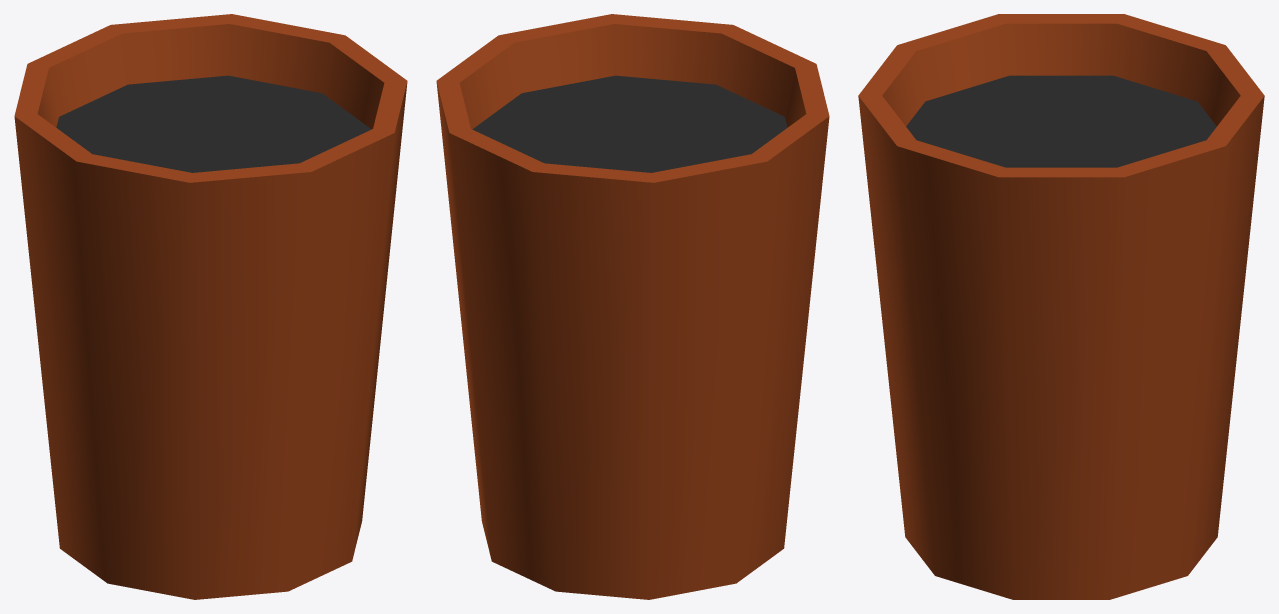
Rendered from Drink.fbx.
3 renders of one model, left to right at view 1: azimuth 30°, elevation 25°; view 2: azimuth 150°, elevation 25°; view 3: azimuth 270°, elevation 25°, orthographic.
Parts seen in each view (by area): view 1: Circle.004; view 2: Circle.004; view 3: Circle.004.
Boxes of the visible parts, bbox=[...] form: Circle.004: bbox=[14, 14, 407, 599]; Circle.004: bbox=[436, 14, 829, 599]; Circle.004: bbox=[858, 14, 1264, 599].
Size of the model in its own units: 80.17 by 84.3 by 101.
